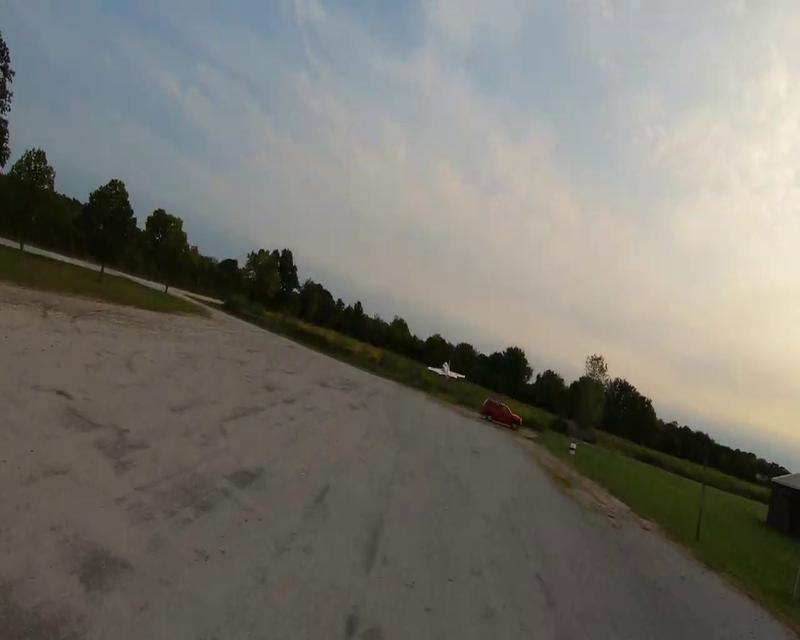UAV: (427, 359, 466, 380)
